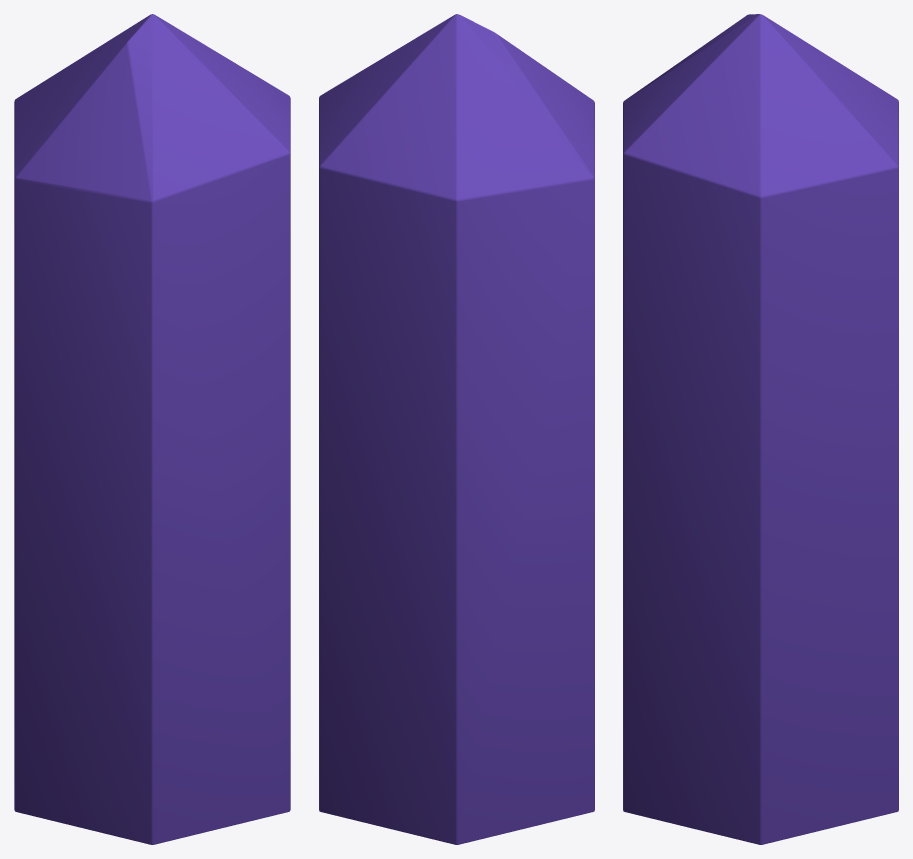
The model's file is Crystal_1.fbx.
3 views of the same model, side by side, from view 1: azimuth 30°, elevation 25°; view 2: azimuth 150°, elevation 25°; view 3: azimuth 270°, elevation 25° (orthographic).
Visible parts, largest first — view 1: Crystal_003; view 2: Crystal_003; view 3: Crystal_003.
Boxes of the visible parts, x1,y1,x2,y2 form: Crystal_003: [14, 14, 290, 844]; Crystal_003: [319, 14, 594, 844]; Crystal_003: [623, 14, 898, 844].
Size of the model in its own units: 3.79 by 10.06 by 3.29.
